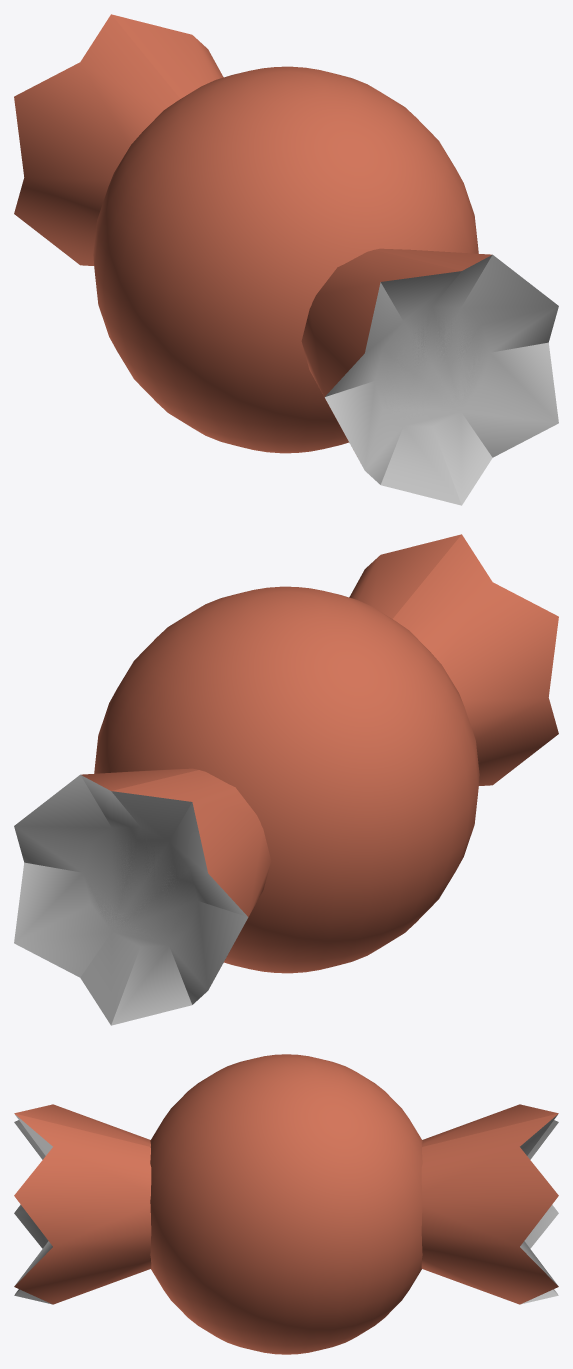
Rendered from CandyUnopen.fbx.
3 views of the same model, one above another, from view 1: azimuth 30°, elevation 25°; view 2: azimuth 150°, elevation 25°; view 3: azimuth 270°, elevation 25° (orthographic). The views are drawn at different scales.
Visible parts, largest first — view 1: CandyUnopen; view 2: CandyUnopen; view 3: CandyUnopen.
Boxes of the visible parts, left/top/right/bottom form: CandyUnopen: left=14, top=14, right=558, bottom=505; CandyUnopen: left=14, top=534, right=558, bottom=1025; CandyUnopen: left=14, top=1054, right=558, bottom=1354.
Bounding box in the file's own units: 82.51 × 150 × 82.51.
